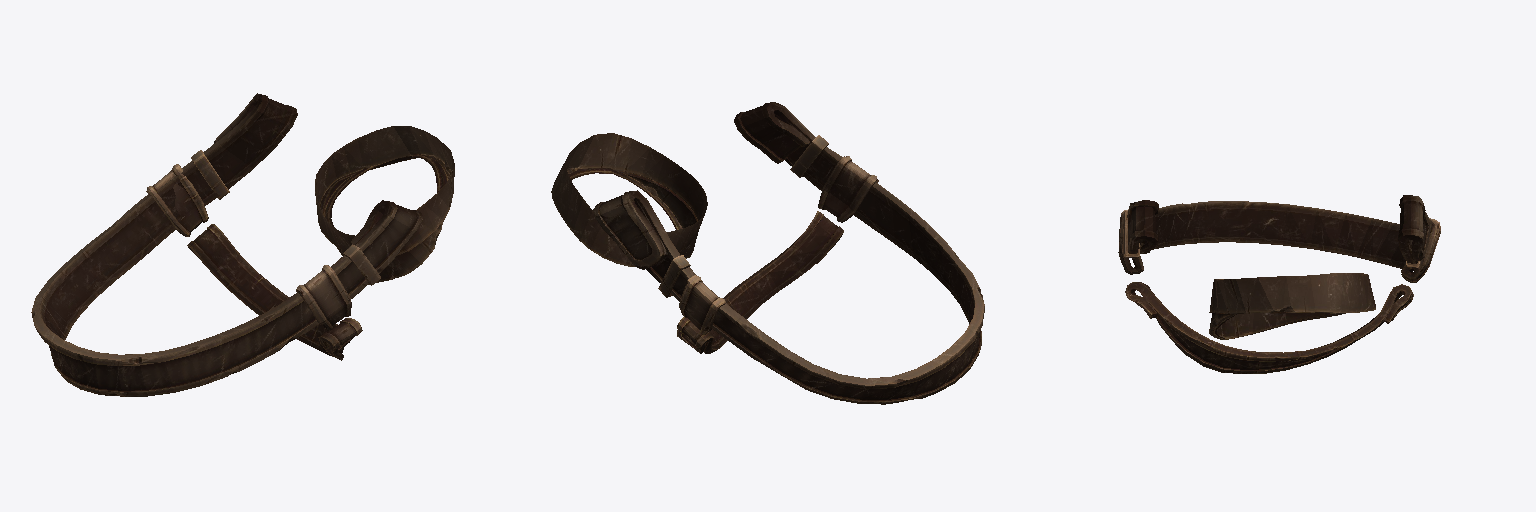
3 renders of one model, left to right at view 1: azimuth 30°, elevation 25°; view 2: azimuth 150°, elevation 25°; view 3: azimuth 270°, elevation 25°, orthographic.
Parts seen in each view (by area): view 1: TorsoGear_Leathers; view 2: TorsoGear_Leathers; view 3: TorsoGear_Leathers.
Boxes of the visible parts, box(x1,y1,x2,y2) form: TorsoGear_Leathers: box(31, 93, 454, 396); TorsoGear_Leathers: box(551, 102, 984, 404); TorsoGear_Leathers: box(1118, 195, 1440, 373).
Bounding box in the file's own units: 2.99 × 1.39 × 2.13.
1 materials, 1 textured.